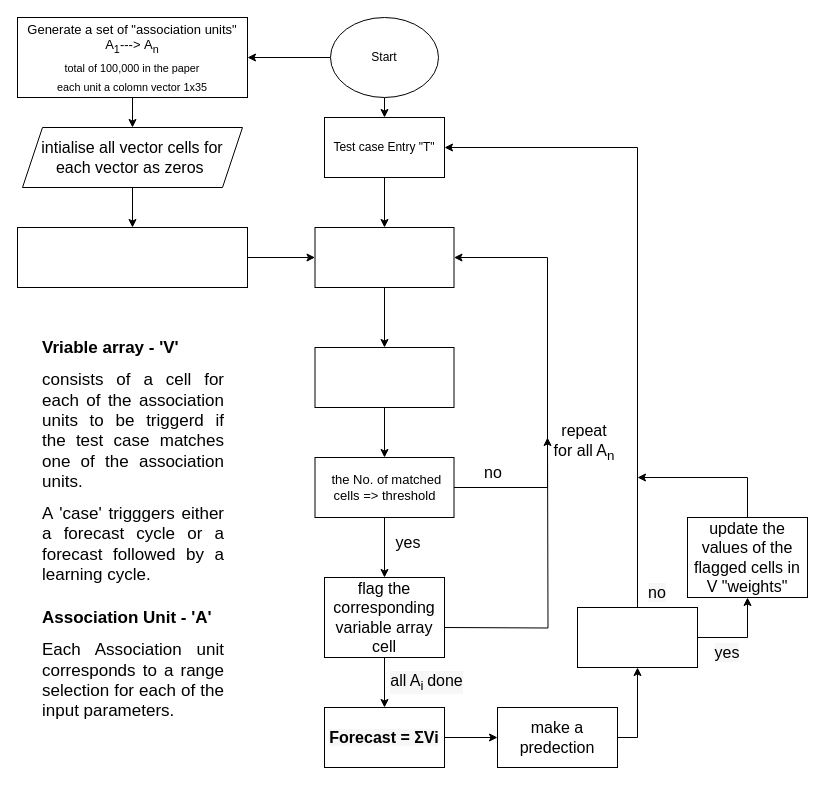
Image size: 825x785. Some labels were removed from this diagram. Here are the shapes that lost their labels. From the top down, the box of each, then its label:
(16, 226, 248, 288): Randomly set only one cell for each partition. (total of 8)
(314, 226, 454, 288): compare A i with T <element wise> I++
(314, 346, 454, 408): count the number or matched cells
(576, 606, 698, 668): learning cycle active ?
